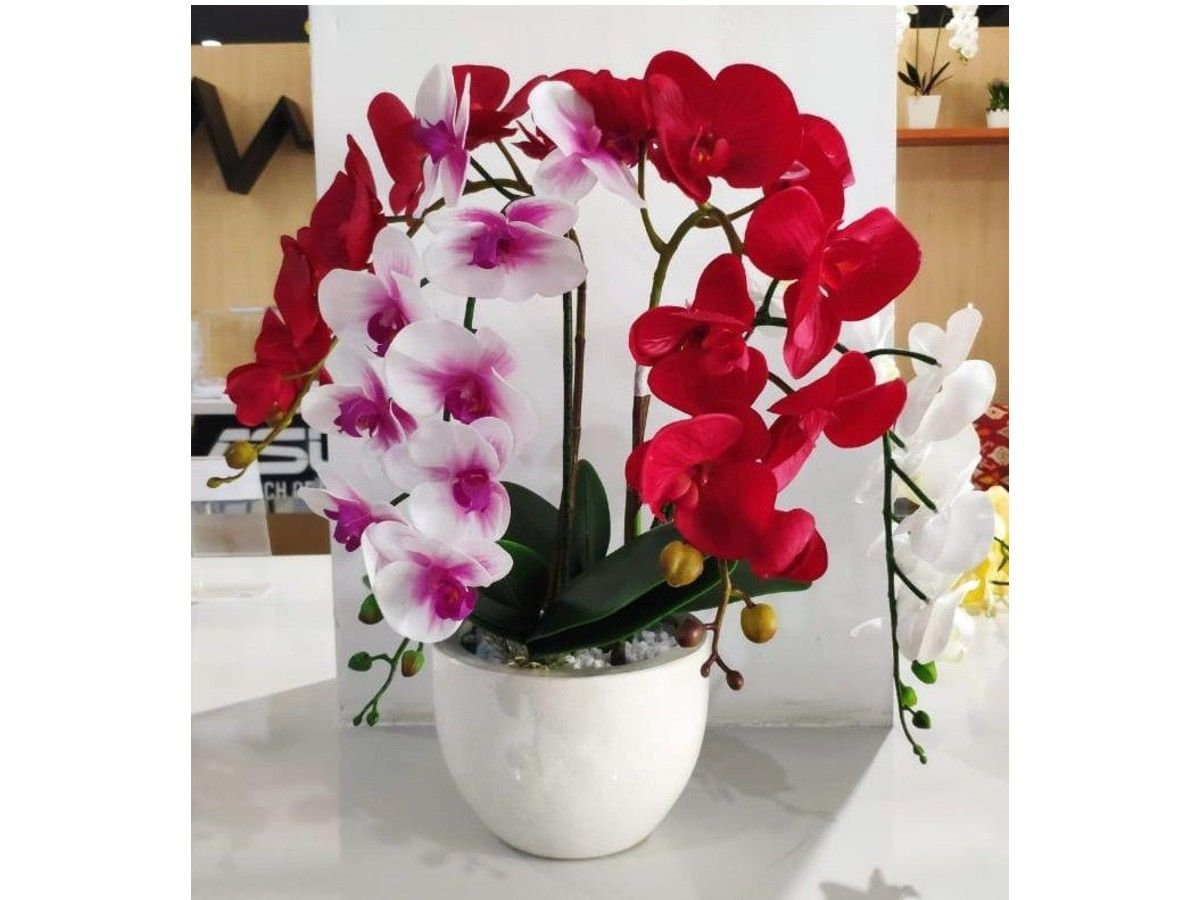orchid: (248, 69, 982, 773)
